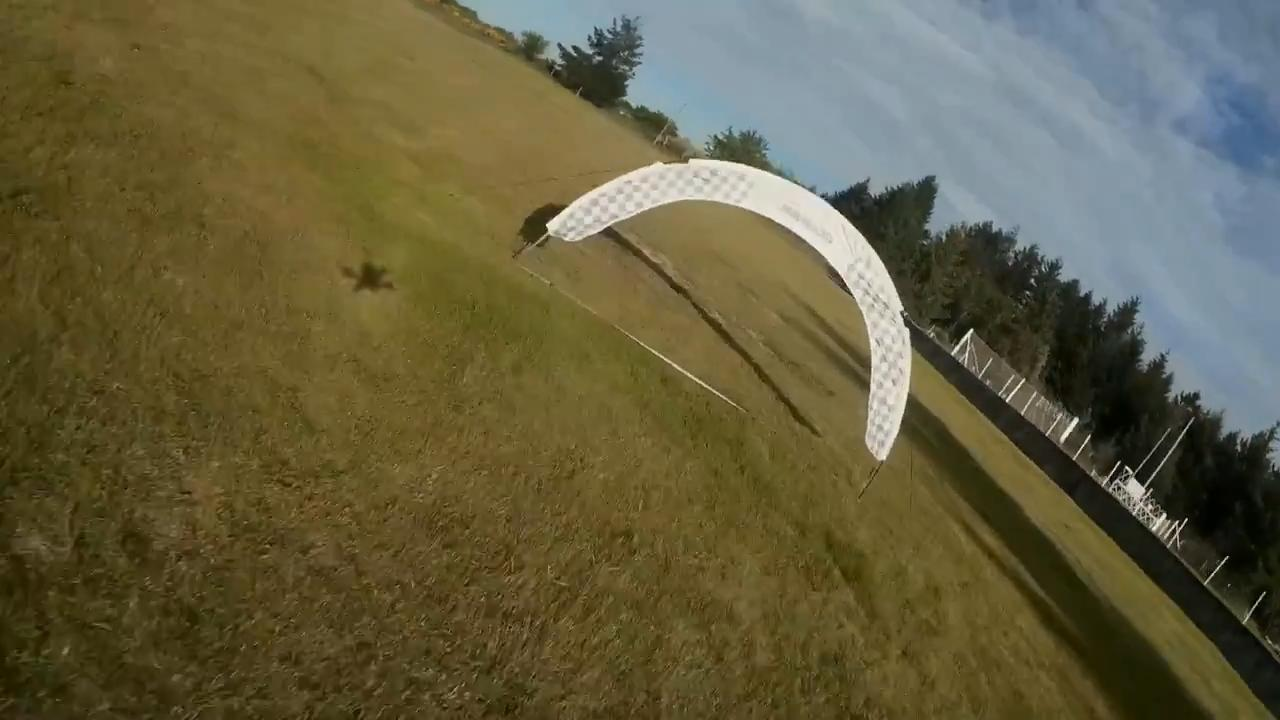gate: (546, 154, 906, 467)
